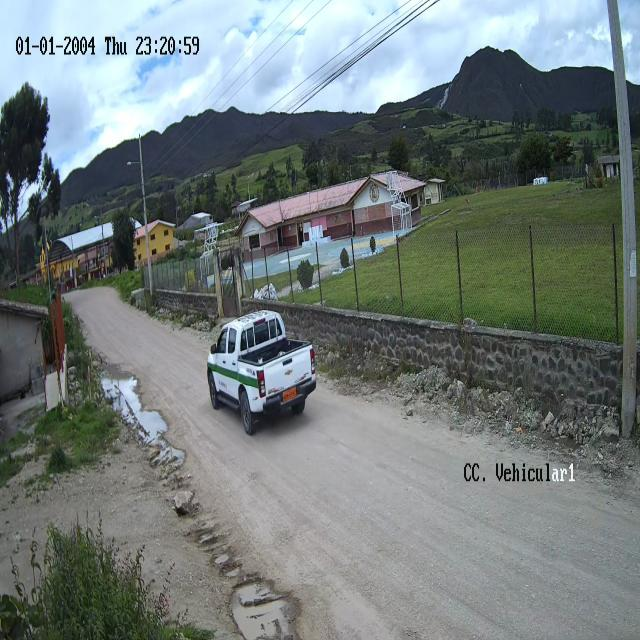CMT: (207, 312, 318, 438)
